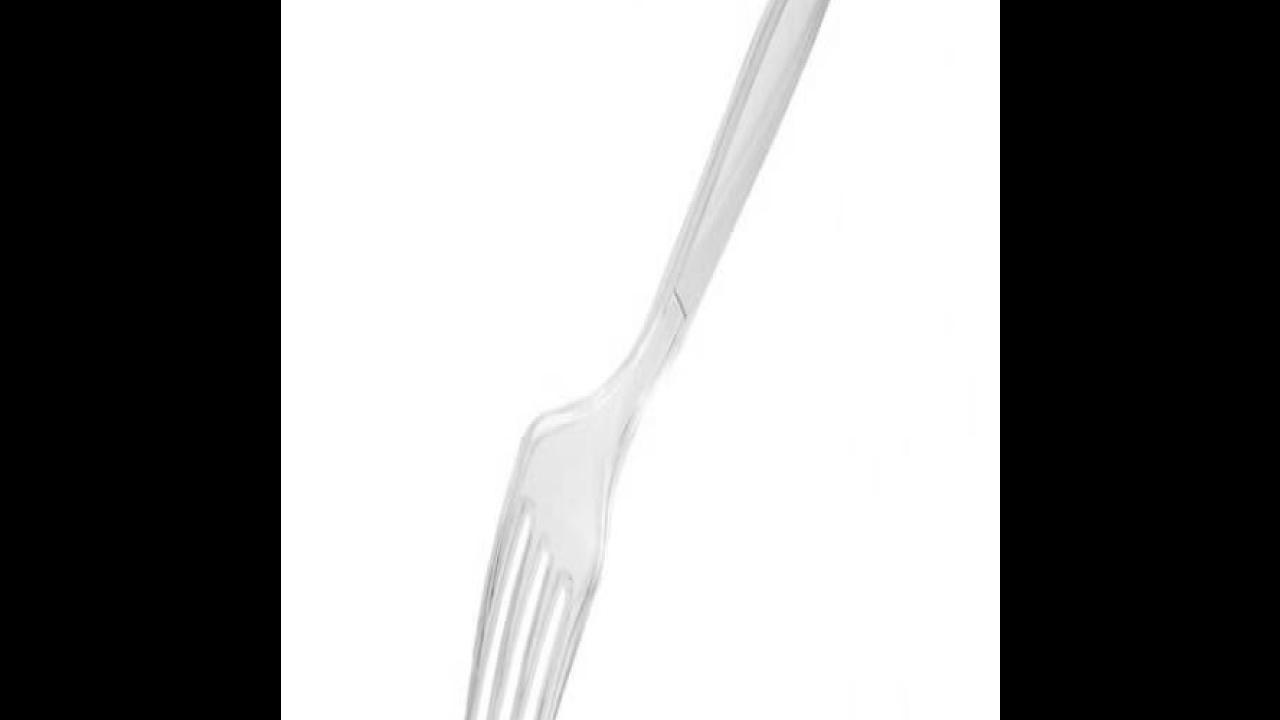fork: (461, 0, 863, 720)
